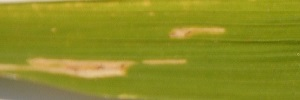RiceBacterialBlight: (3, 54, 191, 83), (165, 21, 237, 43)
